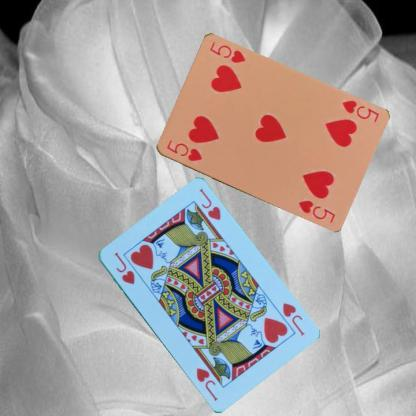5h: (163, 137, 204, 166), (339, 98, 380, 124)
Jh: (110, 249, 136, 286), (279, 300, 305, 337)
